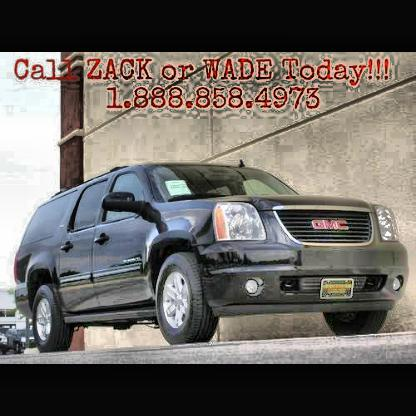GMC Yukon Hybrid SUV 2012: (12, 159, 413, 351)
